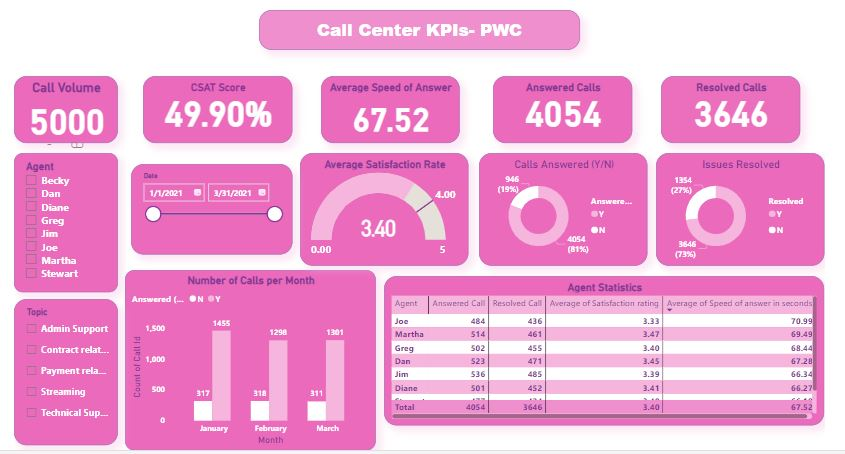

This screenshot's page, from the dashboard's own definition file:
{"tool":"powerbi","page":{"name":"Page 1","canvas":[1280,720],"ordinal":0},"visuals":[{"type":"textbox","box":[337.7,24.6,512.8,62.9],"z":0},{"type":"card","title":"Average Speed of Answer","fields":{"Values":["Avg(Sheet1.Speed of answer in seconds)"]},"box":[485.3,129.6,218.8,106.3],"z":1000},{"type":"slicer","fields":{"Values":["Sheet1.Agent"]},"box":[0,250.6,163.8,220],"z":2000},{"type":"clusteredColumnChart","title":"Number of Calls per Month","fields":{"Category":["Sheet1.Date.Variation.Date Hierarchy.Month"],"Y":["CountNonNull(Sheet1.Call Id)"],"Series":["Sheet1.Answered (Y/N)"]},"box":[176,435.2,396.1,284.8],"z":3000},{"type":"slicer","fields":{"Values":["Sheet1.Topic"]},"box":[0,481.6,163.8,231],"z":5000},{"type":"gauge","title":"Average Satisfaction Rate","fields":{"Y":["Avg(Sheet1.Satisfaction rating)"],"MaxValue":["Max(Sheet1.Satisfaction rating)2"],"TargetValue":["Sheet1.Target Value of Satisfied"]},"box":[451.1,250.6,266.5,178.5],"z":6000},{"type":"slicer","fields":{"Values":["Sheet1.Date"]},"box":[184.6,268.9,255.5,143],"z":7000},{"type":"donutChart","title":"Calls Answered (Y/N)","fields":{"Y":["CountNonNull(Sheet1.Answered (Y/N))"],"Category":["Sheet1.Answered (Y/N)"]},"box":[733.4,250.6,266.5,178.5],"z":8000},{"type":"donutChart","title":"Issues Resolved","fields":{"Category":["Sheet1.Resolved"],"Y":["CountNonNull(Sheet1.Resolved)"]},"box":[1013.4,250.6,266.5,178.5],"z":9000},{"type":"pivotTable","title":"Agent Statistics","fields":{"Rows":["Sheet1.Agent"],"Values":["Sheet1.Answered Call","Sheet1.Resolved Call","Avg(Sheet1.Satisfaction rating)","Avg(Sheet1.Speed of answer in seconds)"]},"box":[584.9,445.2,695.4,236.4],"z":10000},{"type":"card","title":"Call Volume","fields":{"Values":["Count(Sheet1.Call Id)"]},"box":[0,129.6,163.8,106.3],"z":11000},{"type":"card","title":"CSAT Score","fields":{"Values":["Sheet1.CSAT Score"]},"box":[204.1,129.6,235.9,106.3],"z":12000},{"type":"card","title":"Answered Calls","fields":{"Values":["Sheet1.Answered Call"]},"box":[756.7,129.6,220,106.3],"z":13000},{"type":"card","title":"Resolved Calls","fields":{"Values":["Sheet1.Resolved Call"]},"box":[1021.9,129.6,220,106.3],"z":14000}]}

Visuals, with their boxes in screenshot pixels (x1, y1, x2, y2):
textbox: 228:5:558:45
"Average Speed of Answer" card: 323:72:464:141
slicer - Sheet1.Agent: 11:150:116:292
"Number of Calls per Month" clusteredColumnChart: 124:269:379:452
slicer - Sheet1.Topic: 11:299:116:448
"Average Satisfaction Rate" gauge: 301:150:473:265
slicer - Sheet1.Date: 130:162:294:254
"Calls Answered (Y/N)" donutChart: 483:150:655:265
"Issues Resolved" donutChart: 663:150:835:265
"Agent Statistics" pivotTable: 388:276:835:428
"Call Volume" card: 11:72:116:141
"CSAT Score" card: 142:72:294:141
"Answered Calls" card: 498:72:640:141
"Resolved Calls" card: 669:72:810:141
